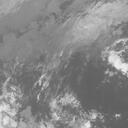cyclone: (37, 37, 81, 80)
